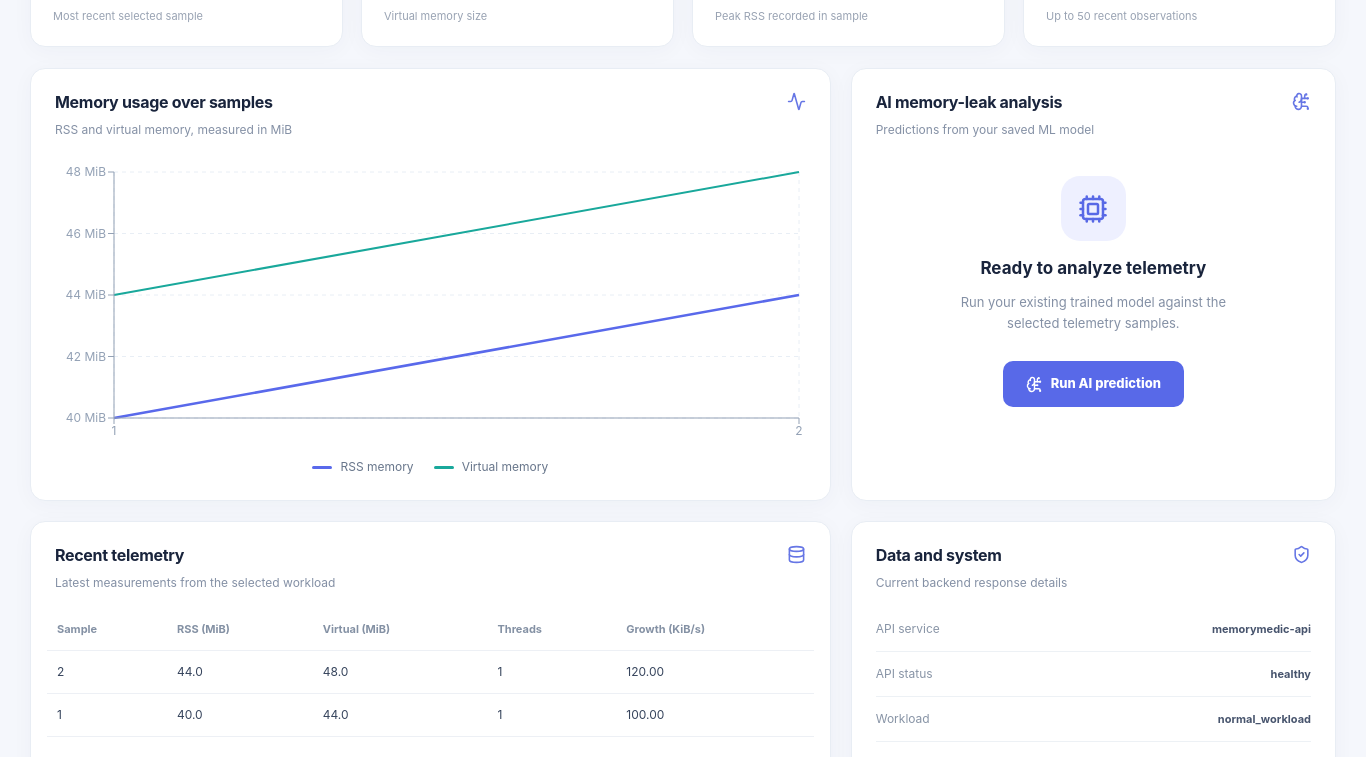
Test: runs an AI prediction
(page scrolled)
Step 1. Click the button "Run AI prediction" → click(1093, 384), box x1=1003 y1=361 x2=1184 y2=407
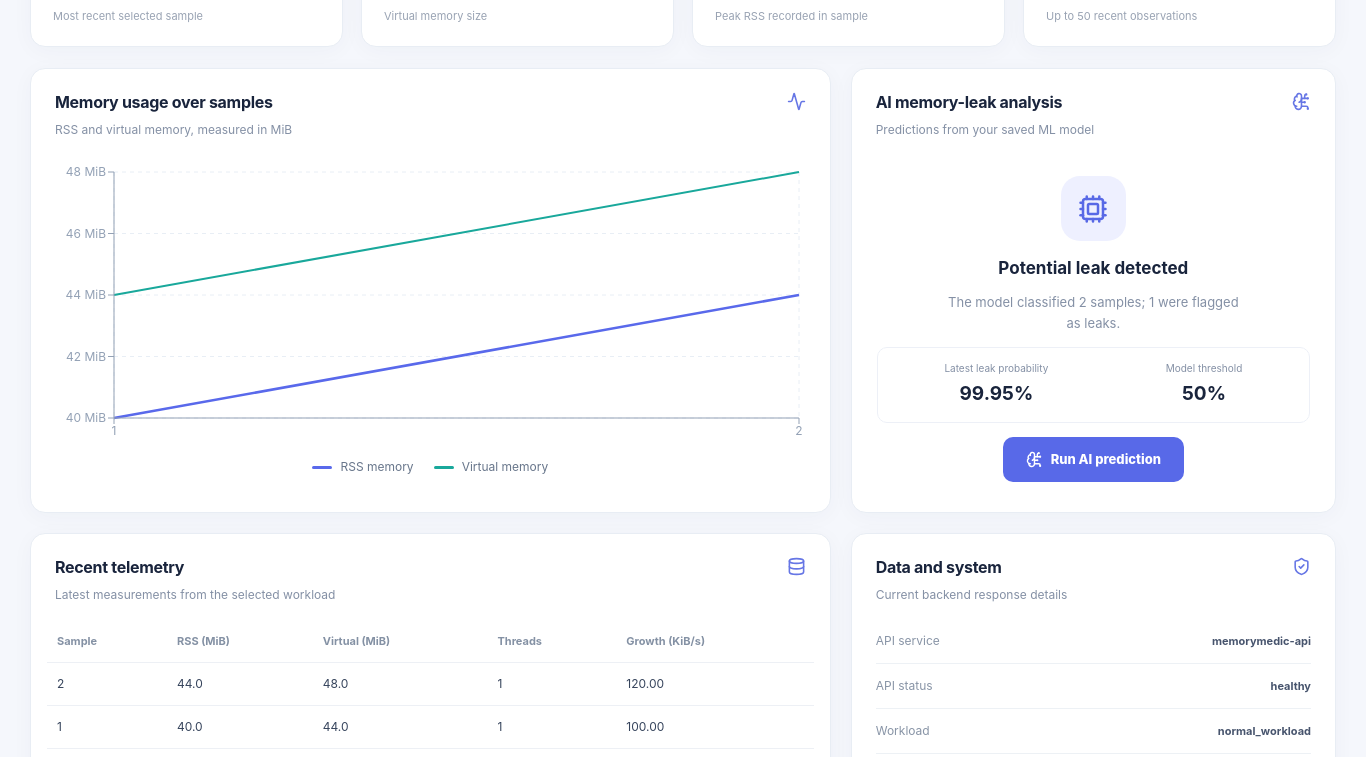
Expected: the heading "Potential leak detected" is shown, x1=998 y1=257 x2=1188 y2=279
Expected: the text "99.95%" is shown, x1=960 y1=382 x2=1033 y2=405
